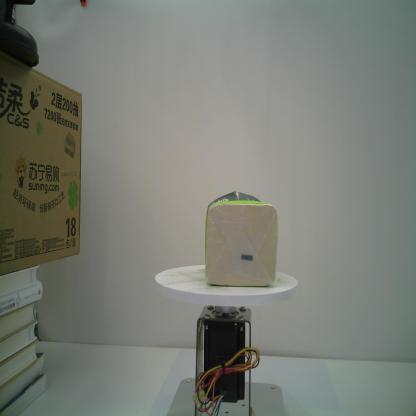Tissue: (203, 189, 279, 289)
